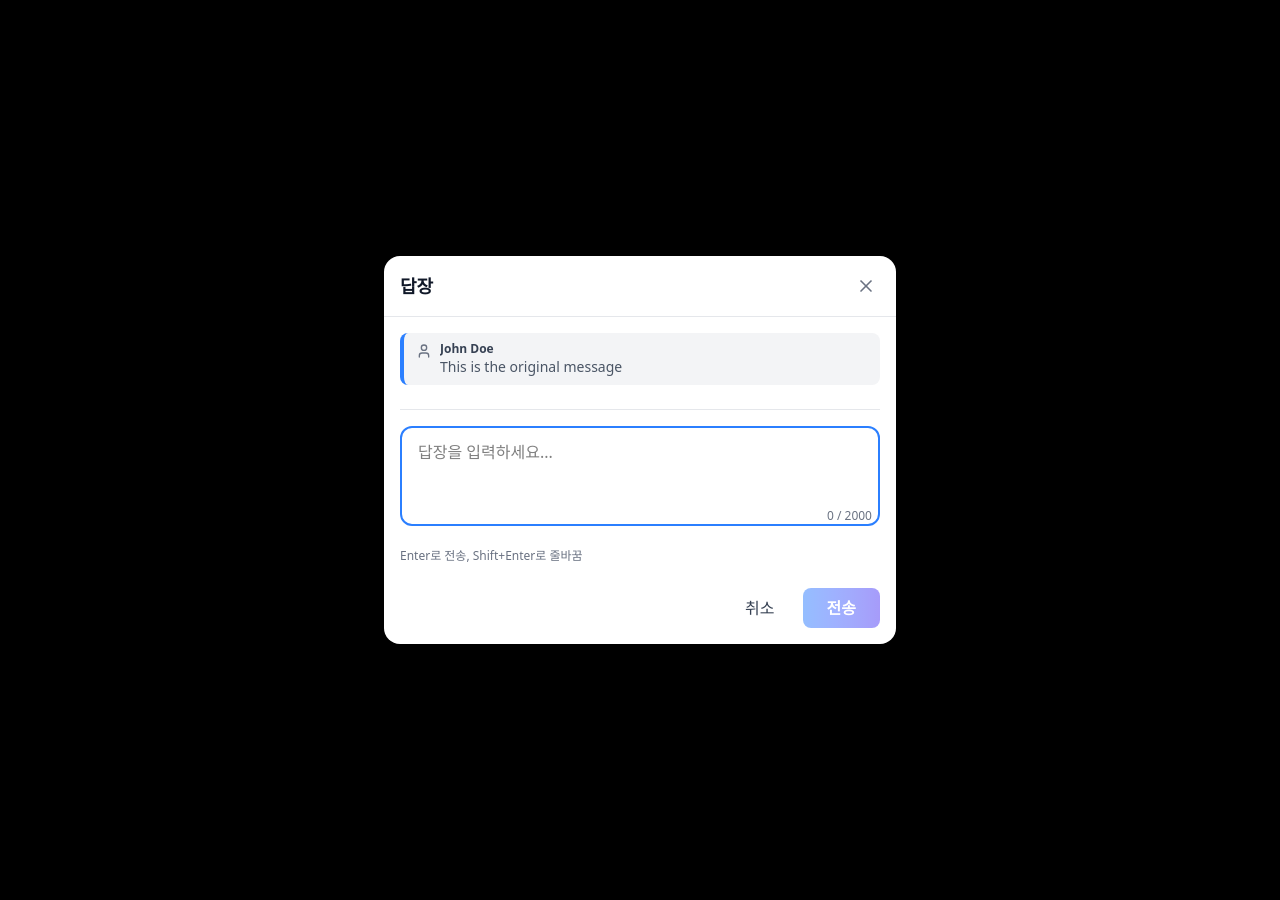
Test case: ReplyModal › send reply functionality › should show loading state while sending
In the text box named "답장 입력": (640, 476) [400,426,880,526], type "Reply text"
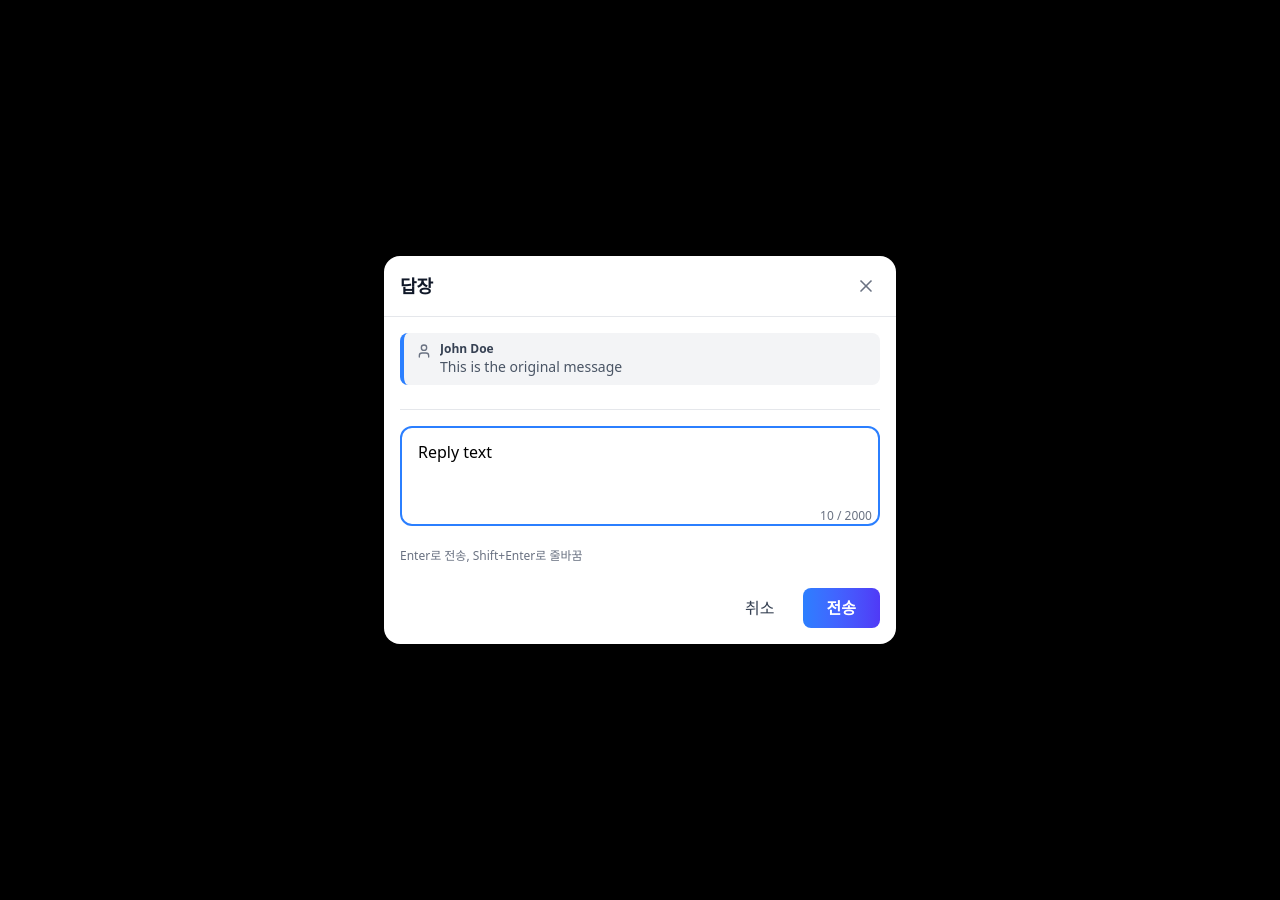
Click the button "전송": click(841, 608) [802,588,880,628]
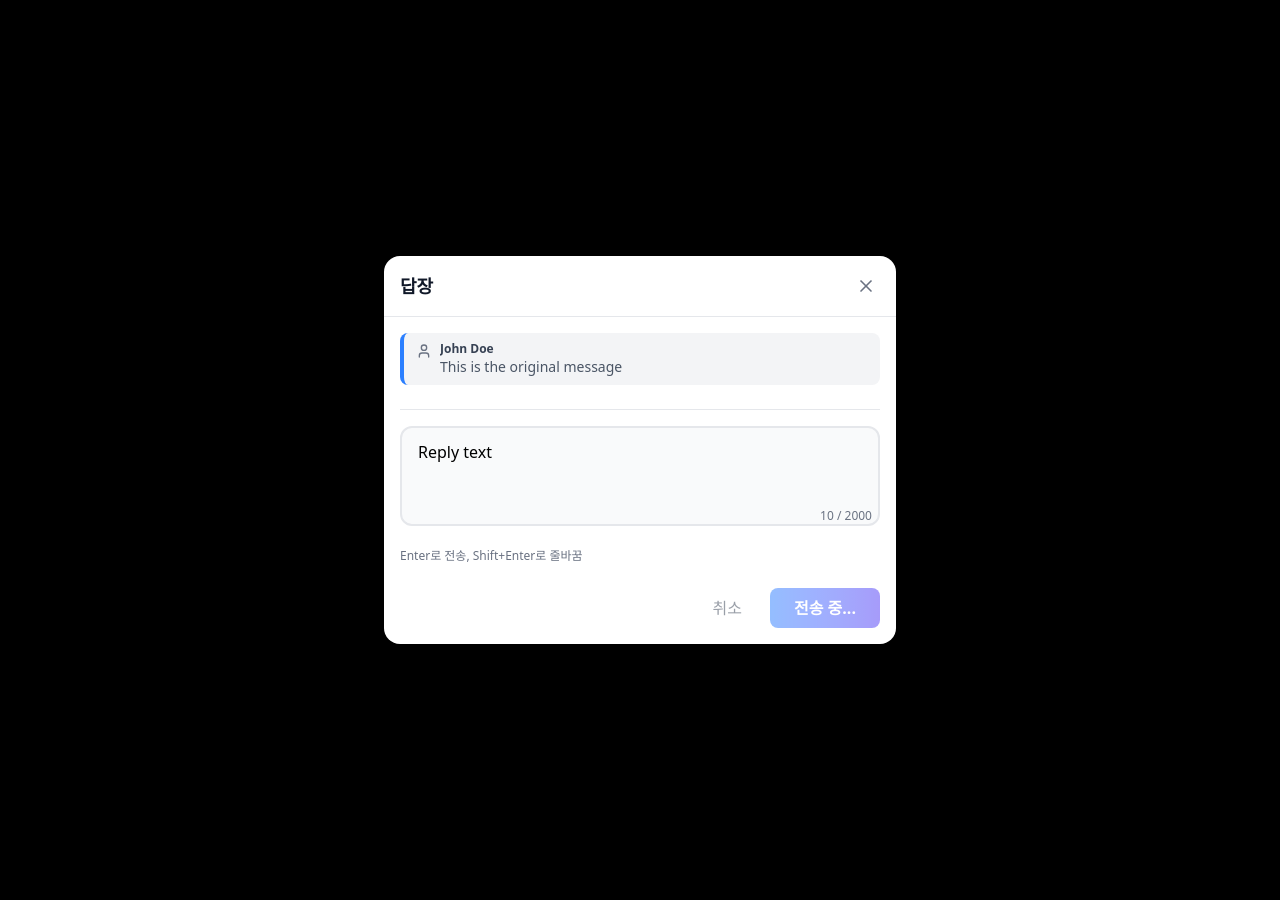
Result: the button "전송 중..." is shown at [770,588,880,628]
